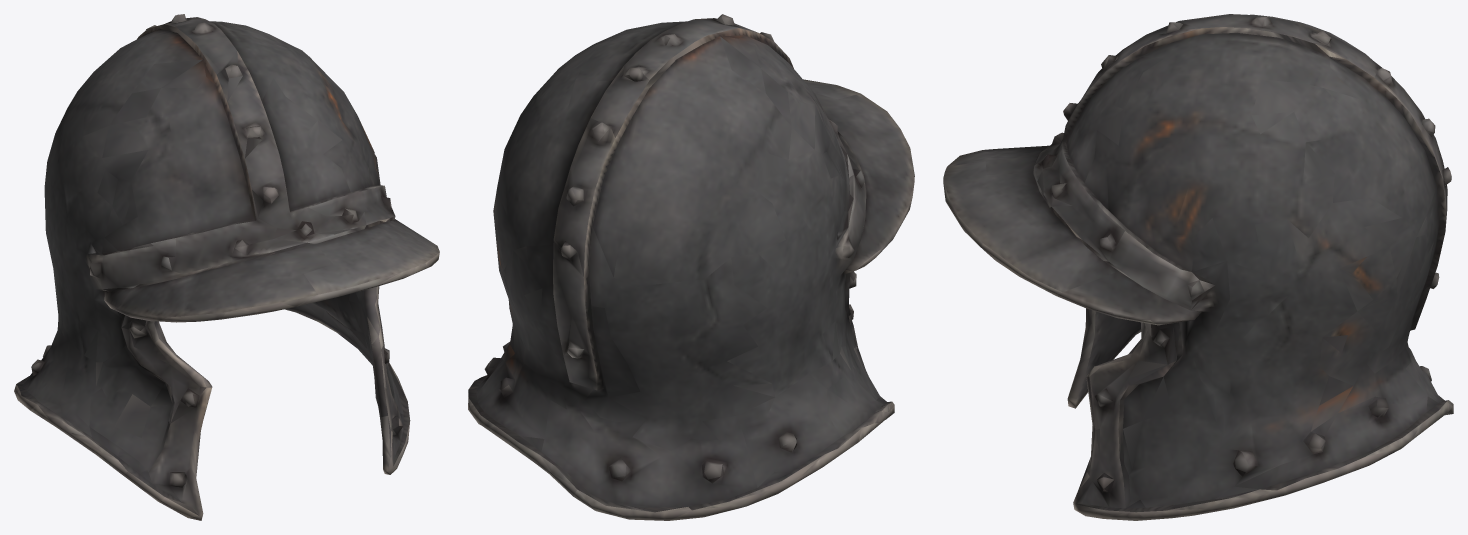
File: iron-helm-8k-v3.glb
3 views of the same model, side by side, from view 1: azimuth 30°, elevation 25°; view 2: azimuth 150°, elevation 25°; view 3: azimuth 270°, elevation 25° (orthographic). The views are drawn at different scales.
Visible parts, largest first — view 1: iron-helm-8k-v3; view 2: iron-helm-8k-v3; view 3: iron-helm-8k-v3.
Boxes of the visible parts, x1=… form: iron-helm-8k-v3: x1=14, y1=14, x2=439, y2=520; iron-helm-8k-v3: x1=468, y1=14, x2=914, y2=520; iron-helm-8k-v3: x1=943, y1=14, x2=1453, y2=520.
Bounding box in the file's own units: 0.8406 × 0.9533 × 0.9978.
Materials: 1 (1 with a texture image).
